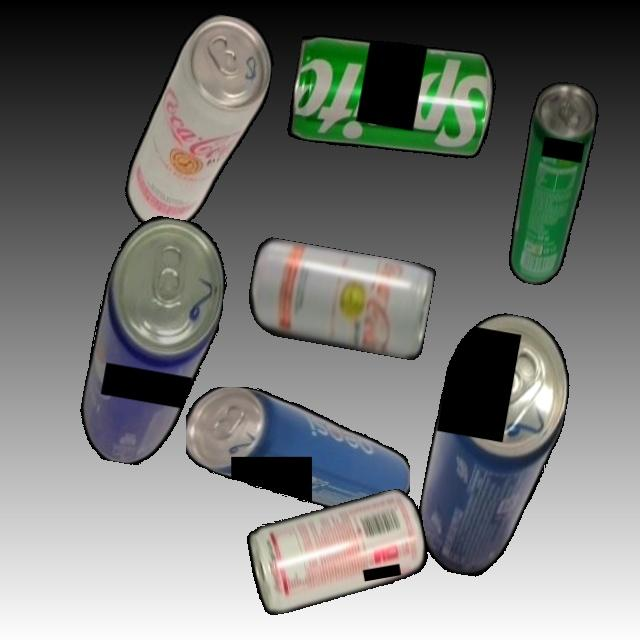debris: (410, 305, 580, 587), (73, 209, 236, 475), (120, 4, 280, 243), (285, 23, 501, 171), (186, 386, 410, 515), (243, 486, 434, 617), (243, 236, 436, 361), (503, 78, 603, 290)
